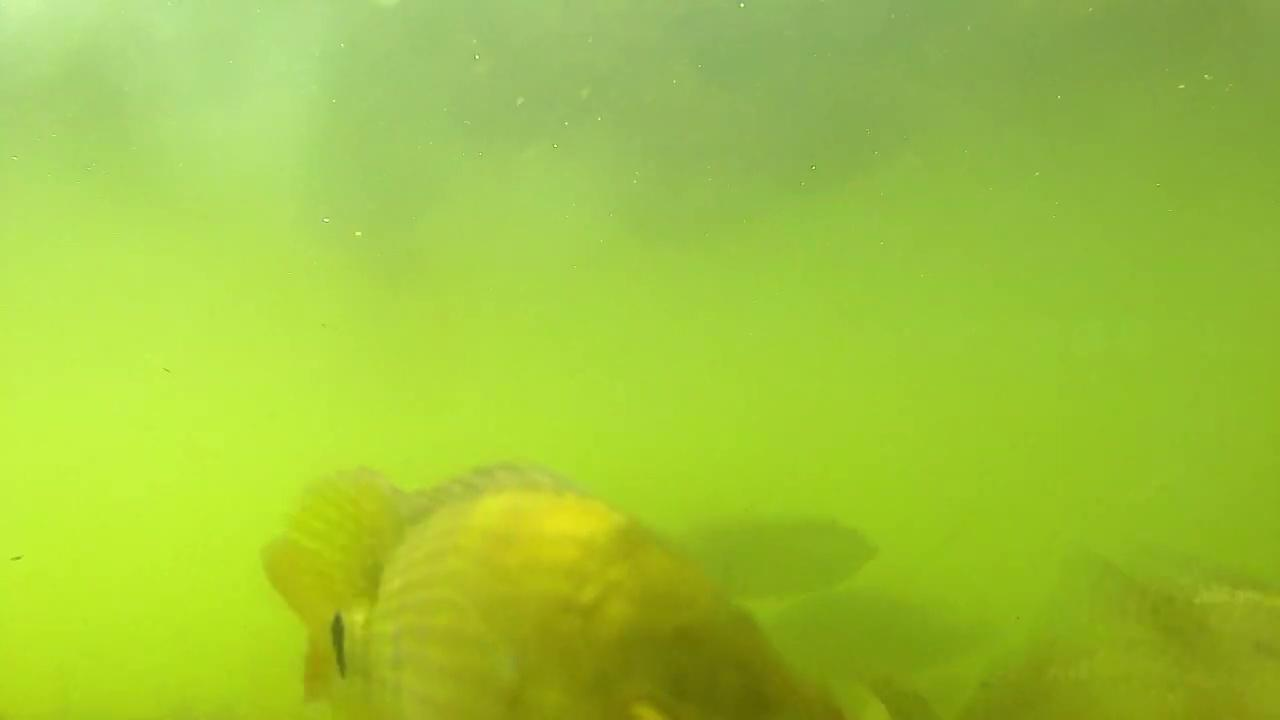Tilapia: (261, 456, 830, 720)
